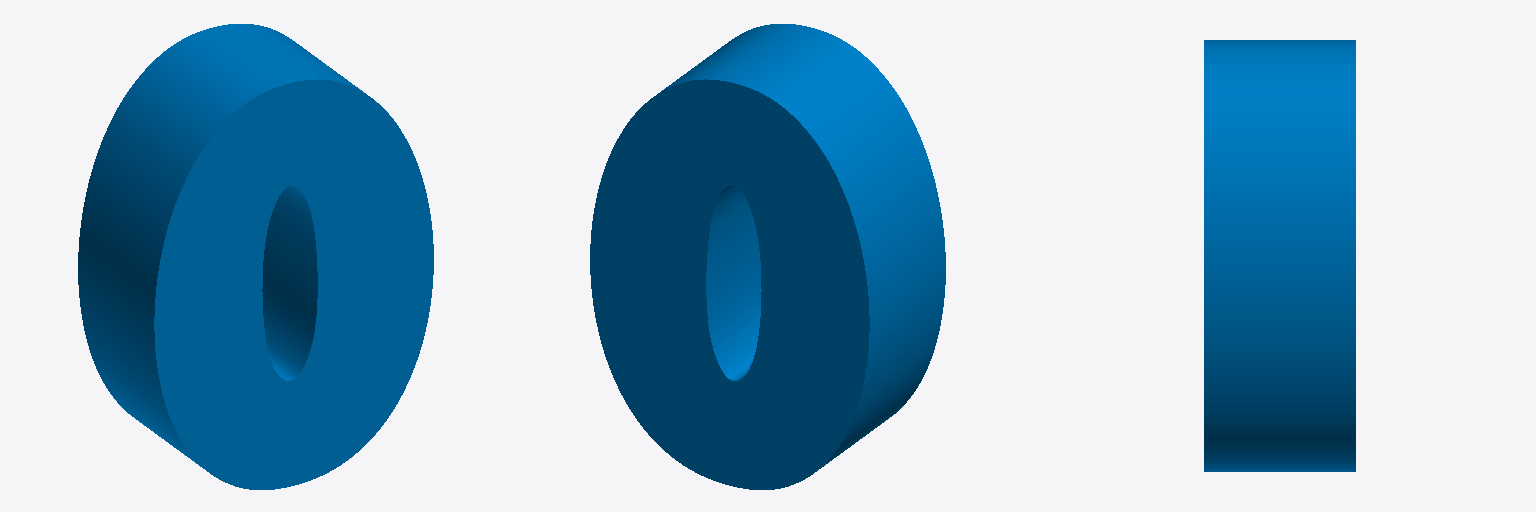
Rendered from Number0.obj.
3 renders of one model, left to right at view 1: azimuth 30°, elevation 25°; view 2: azimuth 150°, elevation 25°; view 3: azimuth 270°, elevation 25°, orthographic.
Visible parts, largest first — view 1: Text; view 2: Text; view 3: Text.
Boxes of the visible parts, <box> form: Text: <box>78,24,433,489</box>; Text: <box>590,24,945,489</box>; Text: <box>1204,40,1355,471</box>.
Bounding box in the file's own units: 0.4229 × 0.5836 × 0.2.